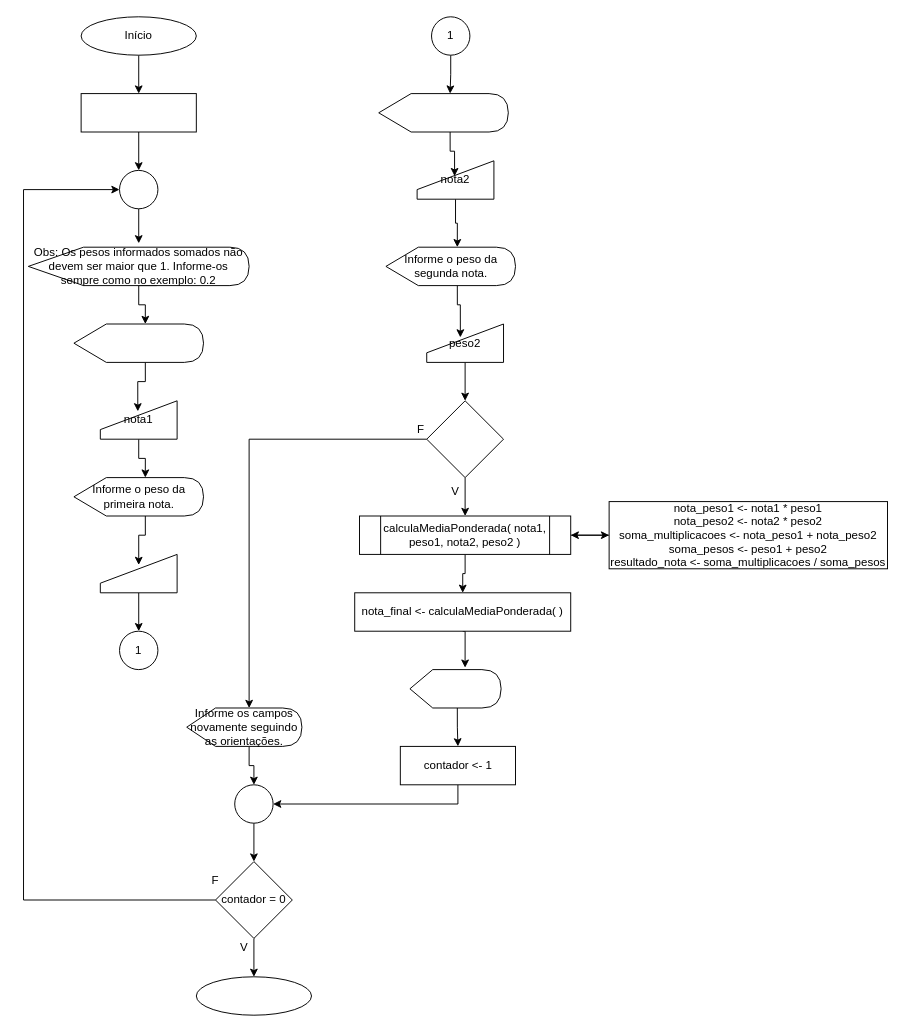
Some shapes in this 904 by 1032 pixel diagram are drawn without their labels. The shapes that lost their labels are listed below. From the top down, each one's box as (x1, y1, x2, y2) in pixels, then its label:
(80, 93, 196, 132): contador <- 0
(378, 93, 508, 132): Informe a segunda nota.
(73, 323, 204, 362): Informe a primeira nota.
(426, 400, 504, 478): peso1 + peso2 = 1
(99, 553, 177, 593): peso1
(409, 669, 501, 708): A nota do aluno é de: nota_final
(195, 976, 312, 1015): Fim
